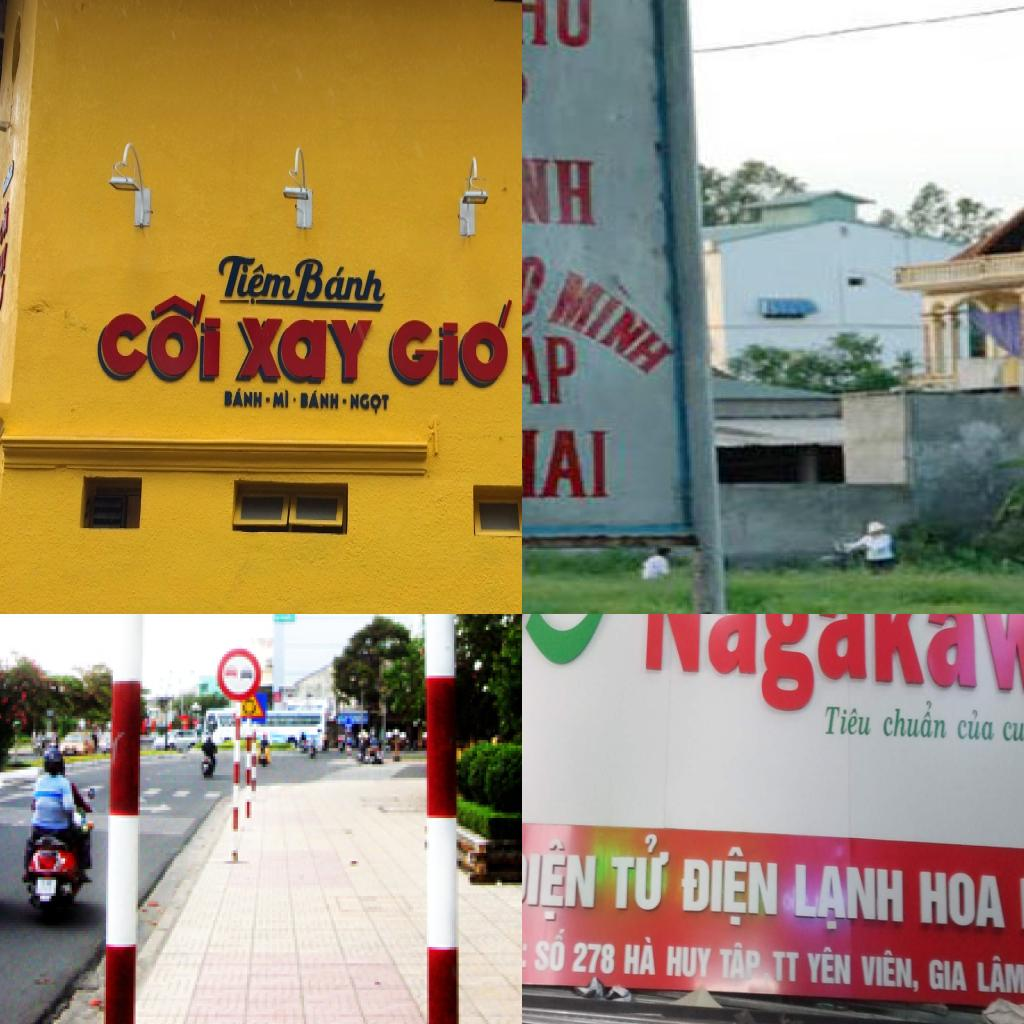text: (643, 614, 1024, 719), (543, 245, 687, 379), (92, 287, 225, 381), (386, 299, 515, 385), (235, 314, 376, 382), (678, 840, 779, 930), (795, 865, 904, 935), (522, 840, 597, 922), (522, 153, 598, 225), (294, 255, 389, 312), (920, 872, 1007, 934), (606, 833, 671, 914), (522, 314, 577, 407), (214, 252, 295, 308), (522, 0, 593, 50), (857, 946, 921, 993), (882, 697, 948, 742), (522, 241, 552, 322), (977, 953, 1024, 997), (808, 945, 852, 986), (665, 946, 714, 982), (720, 940, 762, 982), (570, 942, 616, 978), (930, 958, 970, 997), (822, 705, 872, 736), (535, 928, 567, 975), (624, 935, 658, 978), (956, 705, 996, 740), (349, 391, 392, 416), (773, 950, 801, 986), (298, 388, 340, 411), (224, 385, 265, 408), (1002, 712, 1024, 751), (272, 386, 291, 410)
